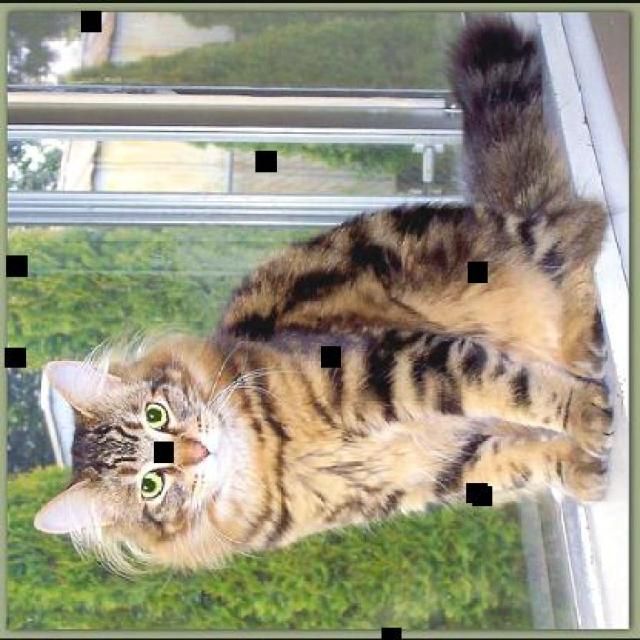unauthorized: (32, 12, 616, 582)
